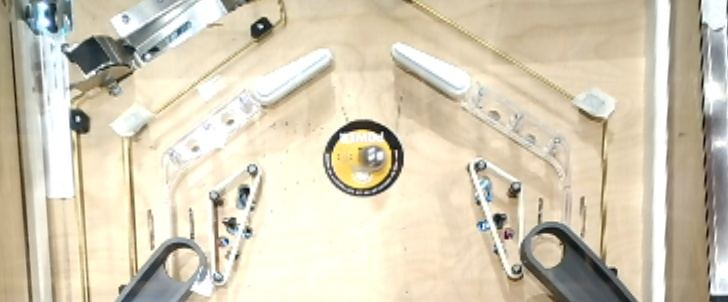ball: (358, 144, 388, 173)
flipper-left: (389, 41, 475, 102)
flipper-right: (249, 43, 336, 105)
